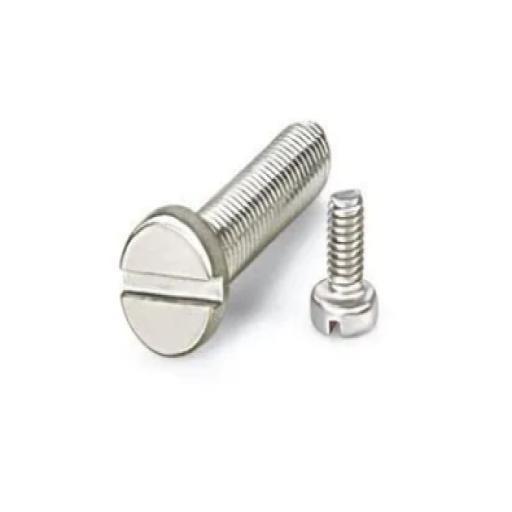Slotted: (119, 198, 229, 362)
